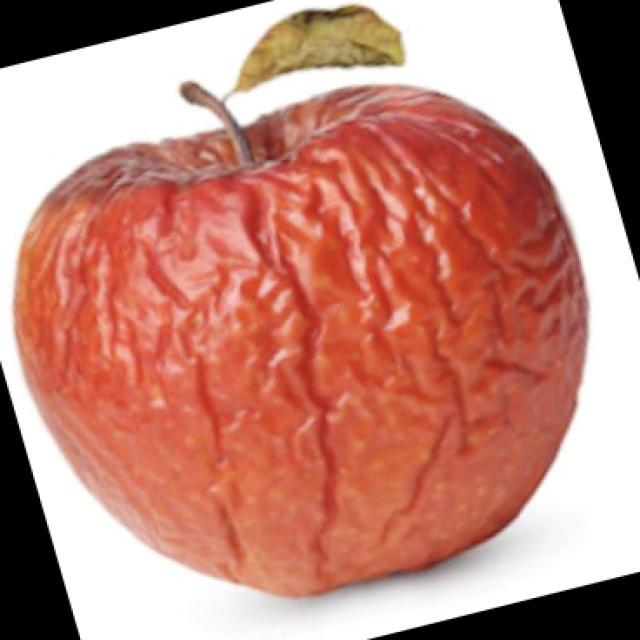Rotten: (11, 79, 596, 604)
